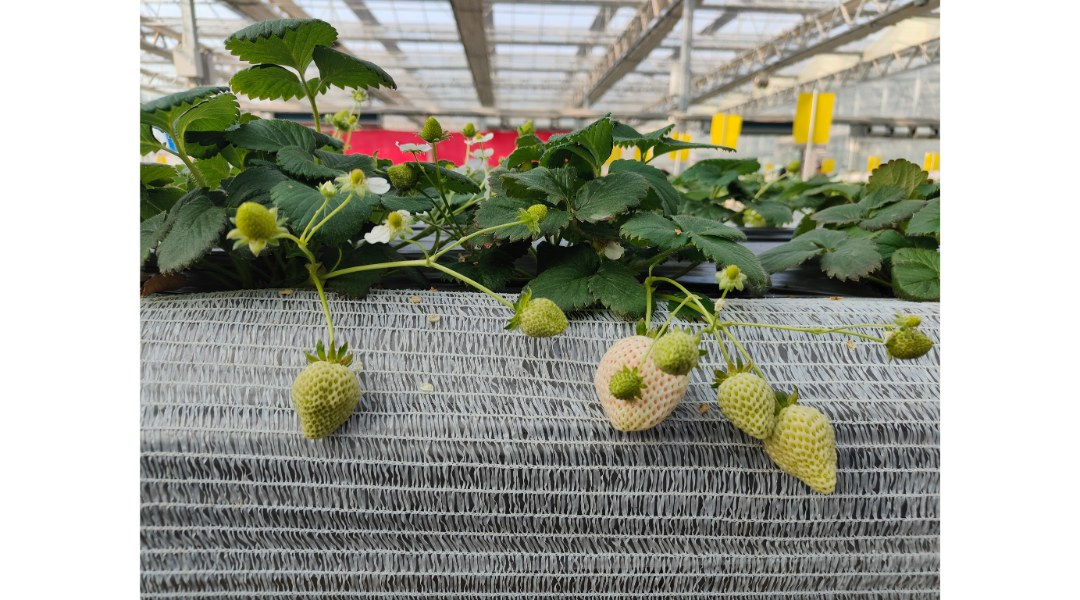berry: (591, 332, 692, 439), (287, 346, 372, 444), (766, 400, 847, 495), (703, 360, 789, 449), (231, 200, 288, 260), (510, 286, 570, 337), (656, 327, 697, 388), (880, 318, 934, 363), (606, 368, 642, 410), (517, 199, 551, 233), (716, 261, 745, 288), (419, 116, 449, 141), (390, 214, 406, 230)
flower: (341, 165, 389, 201)
strain: (435, 260, 511, 311), (730, 310, 844, 343), (339, 254, 423, 280), (309, 277, 338, 348), (637, 286, 659, 328)
